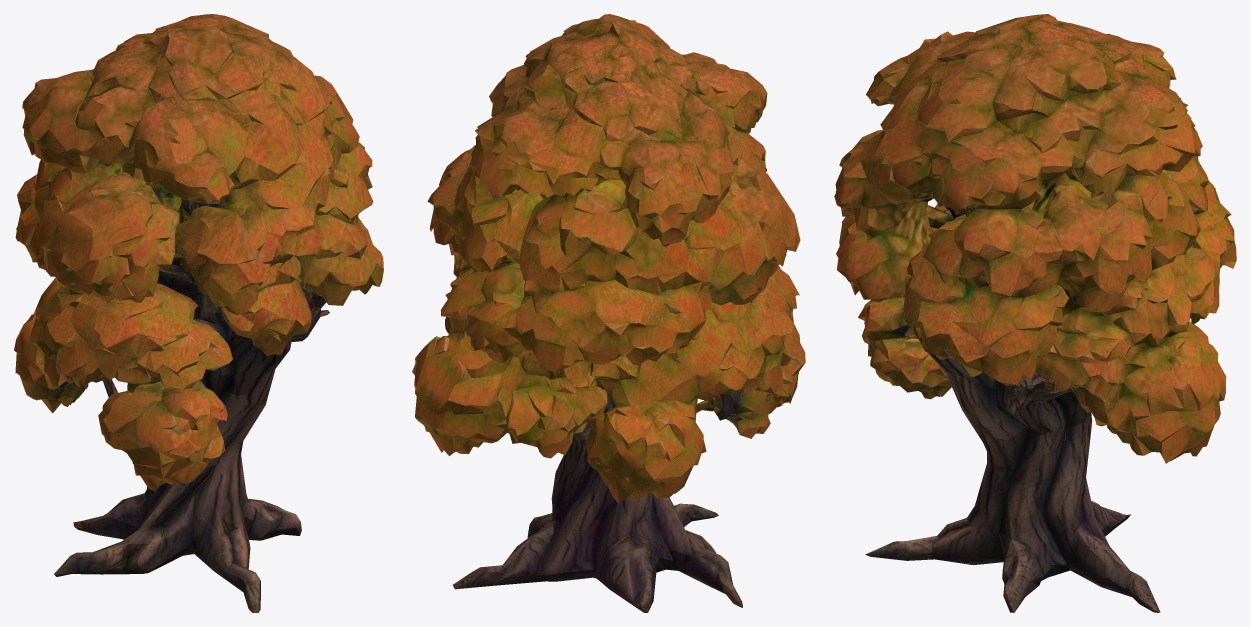
Rendered from OakAutumn.glb.
The picture shows the model from 3 angles, left to right: view 1: azimuth 30°, elevation 25°; view 2: azimuth 150°, elevation 25°; view 3: azimuth 270°, elevation 25°; orthographic projection. The views are drawn at different scales.
Bounding box in the file's own units: 3.75 × 6 × 3.97.
1 material, 1 textured.
